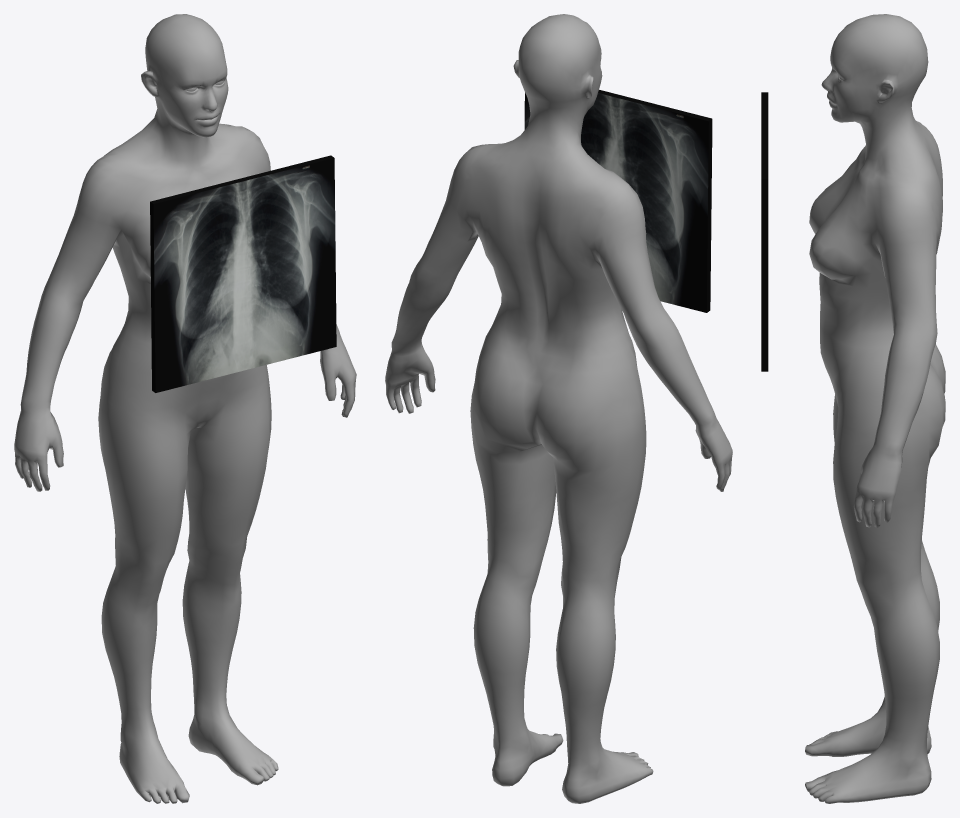
The model's file is X_Ray.fbx.
3 views of the same model, side by side, from view 1: azimuth 30°, elevation 25°; view 2: azimuth 150°, elevation 25°; view 3: azimuth 270°, elevation 25° (orthographic).
Parts seen in each view (by area): view 1: pSphere3, pCube1; view 2: pSphere3, pCube1; view 3: pSphere3, pCube1.
Boxes of the visible parts, <box> form: pSphere3: <box>14,14,356,803</box>; pCube1: <box>150,155,336,392</box>; pSphere3: <box>385,14,732,803</box>; pCube1: <box>524,89,712,312</box>; pSphere3: <box>805,14,945,803</box>; pCube1: <box>761,92,768,371</box>.
Size of the model in its own units: 18.42 by 39.52 by 8.73.
2 materials, 1 textured.
